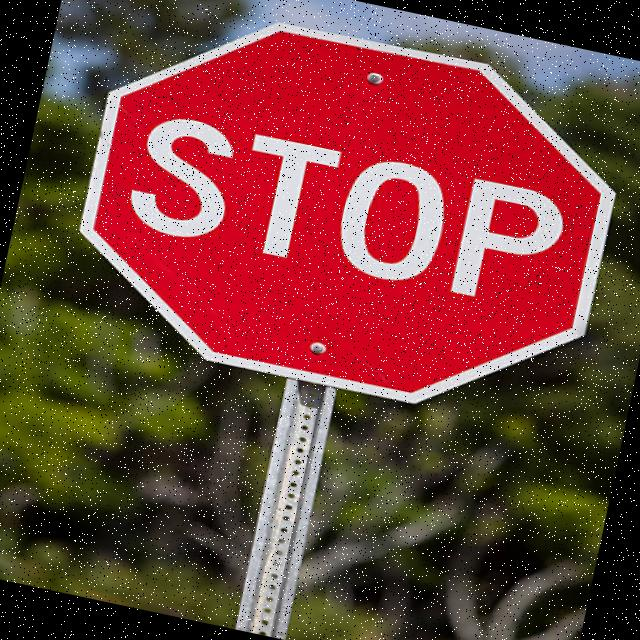stop: (42, 0, 640, 447)
